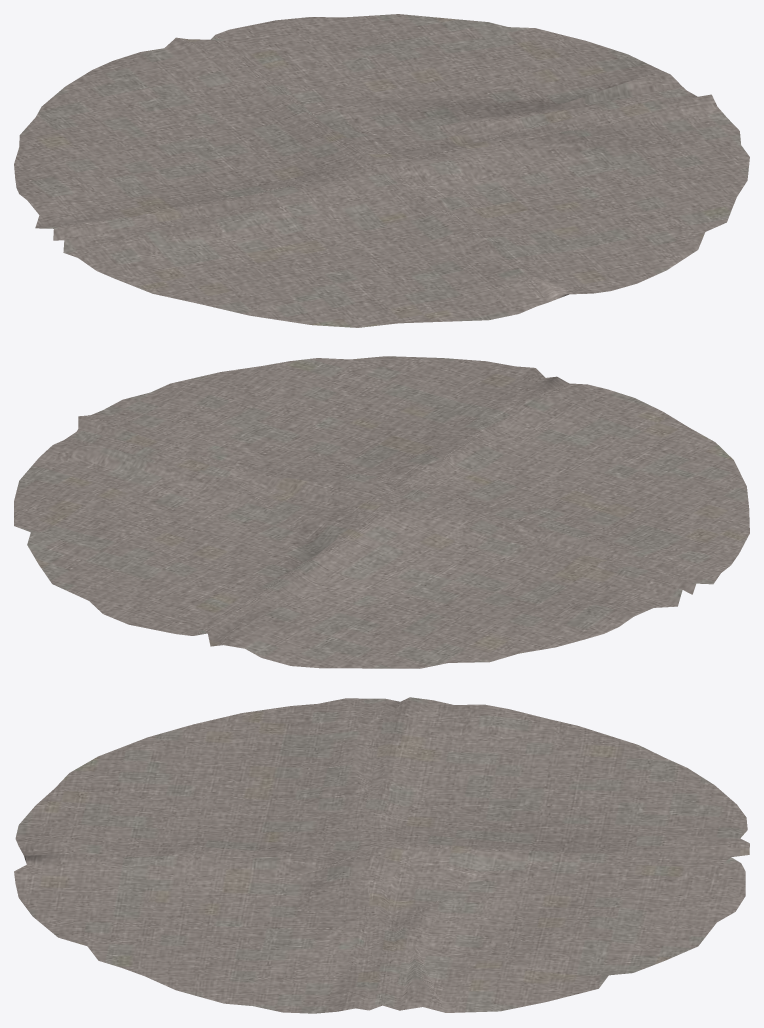
Rendered from Carpet0032.obj.
3 renders of one model, top to bottom at view 1: azimuth 30°, elevation 25°; view 2: azimuth 150°, elevation 25°; view 3: azimuth 270°, elevation 25°, orthographic.
Size of the model in its own units: 3.03 by 0.062 by 2.98.
Materials: 1 (1 with a texture image).
